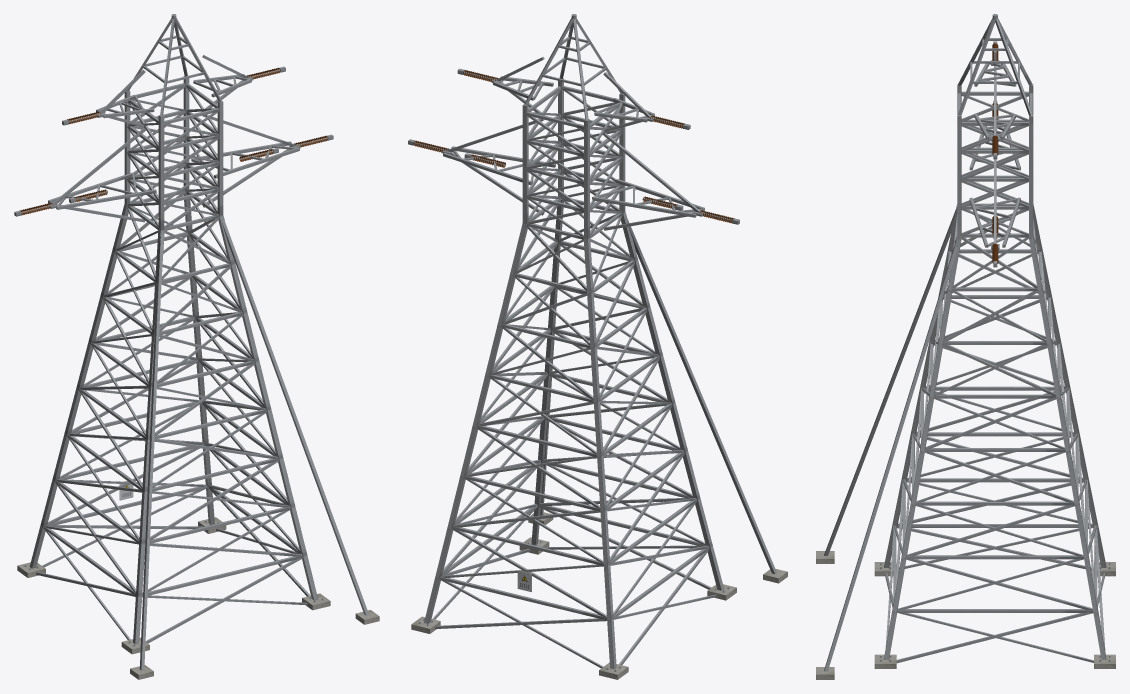
Rendered from lattice_terminal.obj.
3 renders of one model, left to right at view 1: azimuth 30°, elevation 25°; view 2: azimuth 150°, elevation 25°; view 3: azimuth 270°, elevation 25°, orthographic. The views are drawn at different scales.
Visible parts, largest first — view 1: body, arm, stay, footing; view 2: body, arm, stay, footing; view 3: body, stay, arm, footing.
Boxes of the visible parts, <box> form: body: <box>29,18,318,644</box>; arm: <box>48,55,300,222</box>; stay: <box>130,220,379,679</box>; footing: <box>17,517,330,654</box>; body: <box>424,18,723,669</box>; arm: <box>442,56,704,230</box>; stay: <box>528,218,787,583</box>; footing: <box>411,537,736,679</box>; body: <box>884,18,1106,663</box>; stay: <box>816,209,957,679</box>; arm: <box>969,51,1020,249</box>; footing: <box>874,562,1115,668</box>.
Size of the model in its own units: 6.68 by 11.55 by 5.19.
